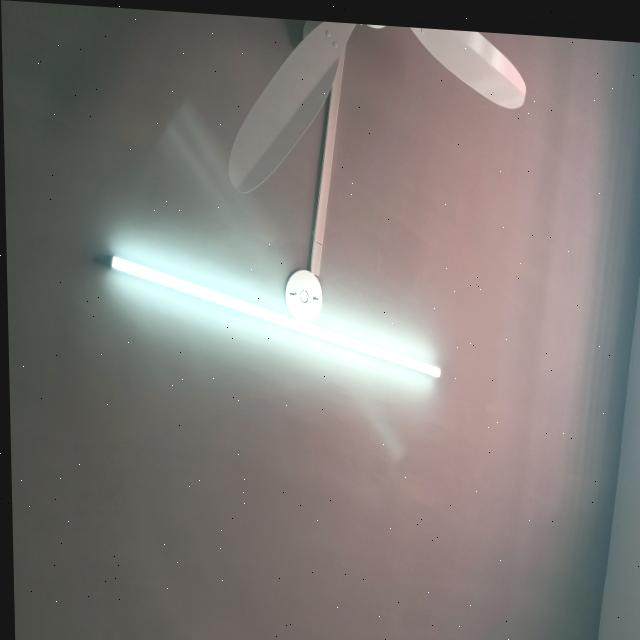light_on: (98, 247, 448, 378)
